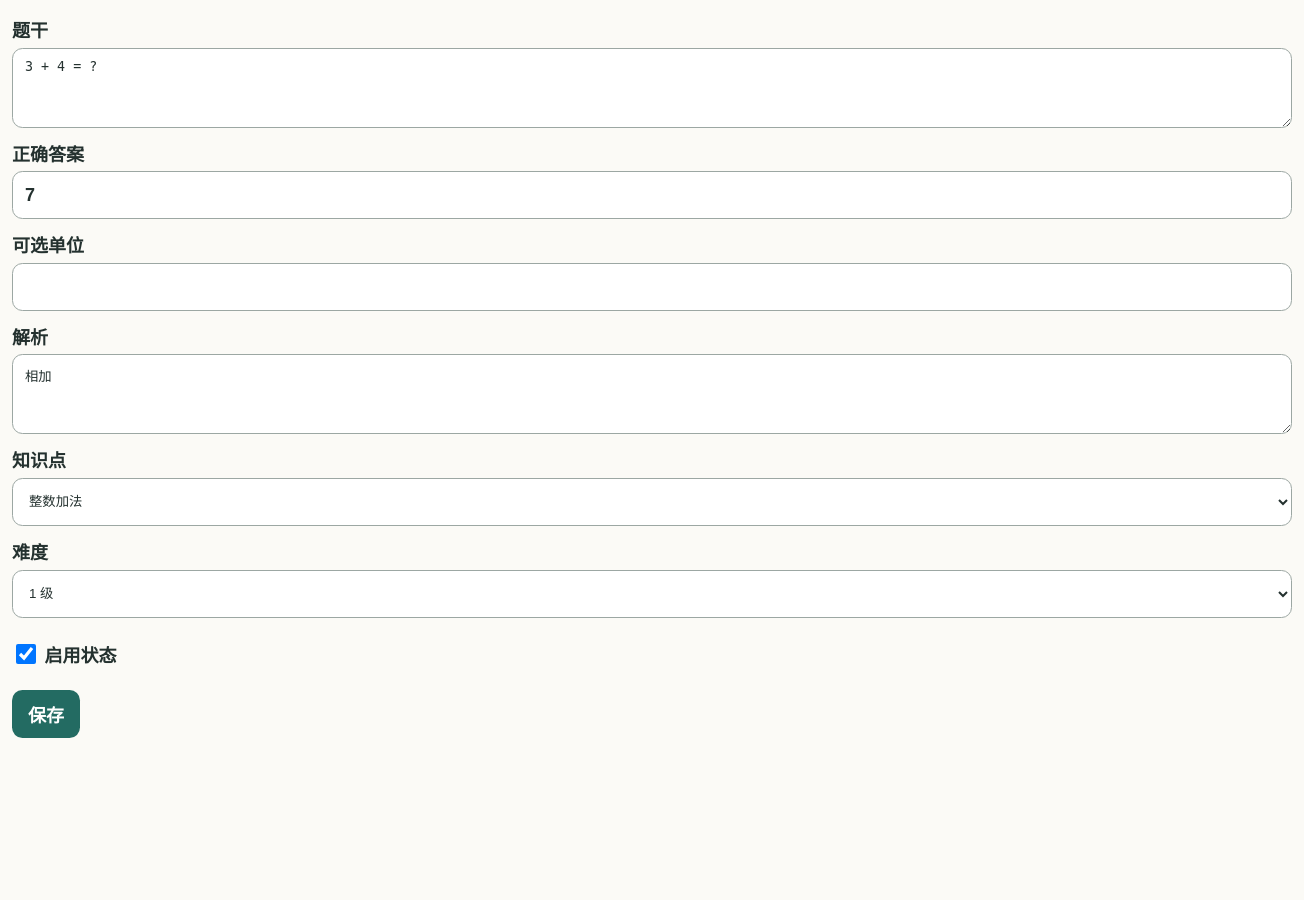
Test: edits friendly fields, saves the complete row payload, and toggles active without delete
Step 1. Replace the text in the text box labelled "题干" with "3 + 5 = ?" → (652, 88), box [12,48,1292,128]
Step 2. Replace the text in the number field labelled "正确答案" with "8" → (652, 195), box [12,171,1292,219]
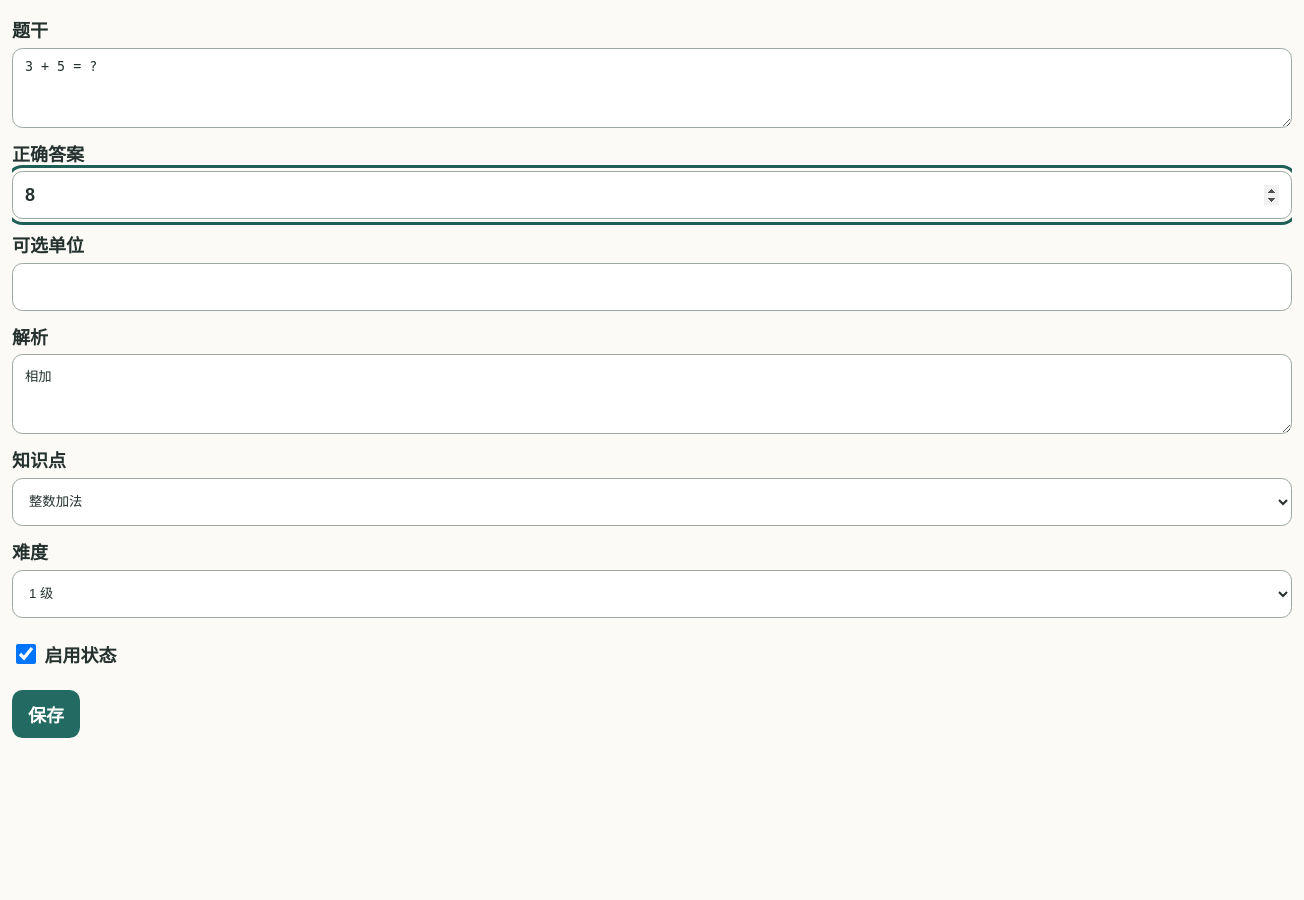
Step 3. Type "个" into the field labelled "可选单位" → (652, 287), box [12,263,1292,311]
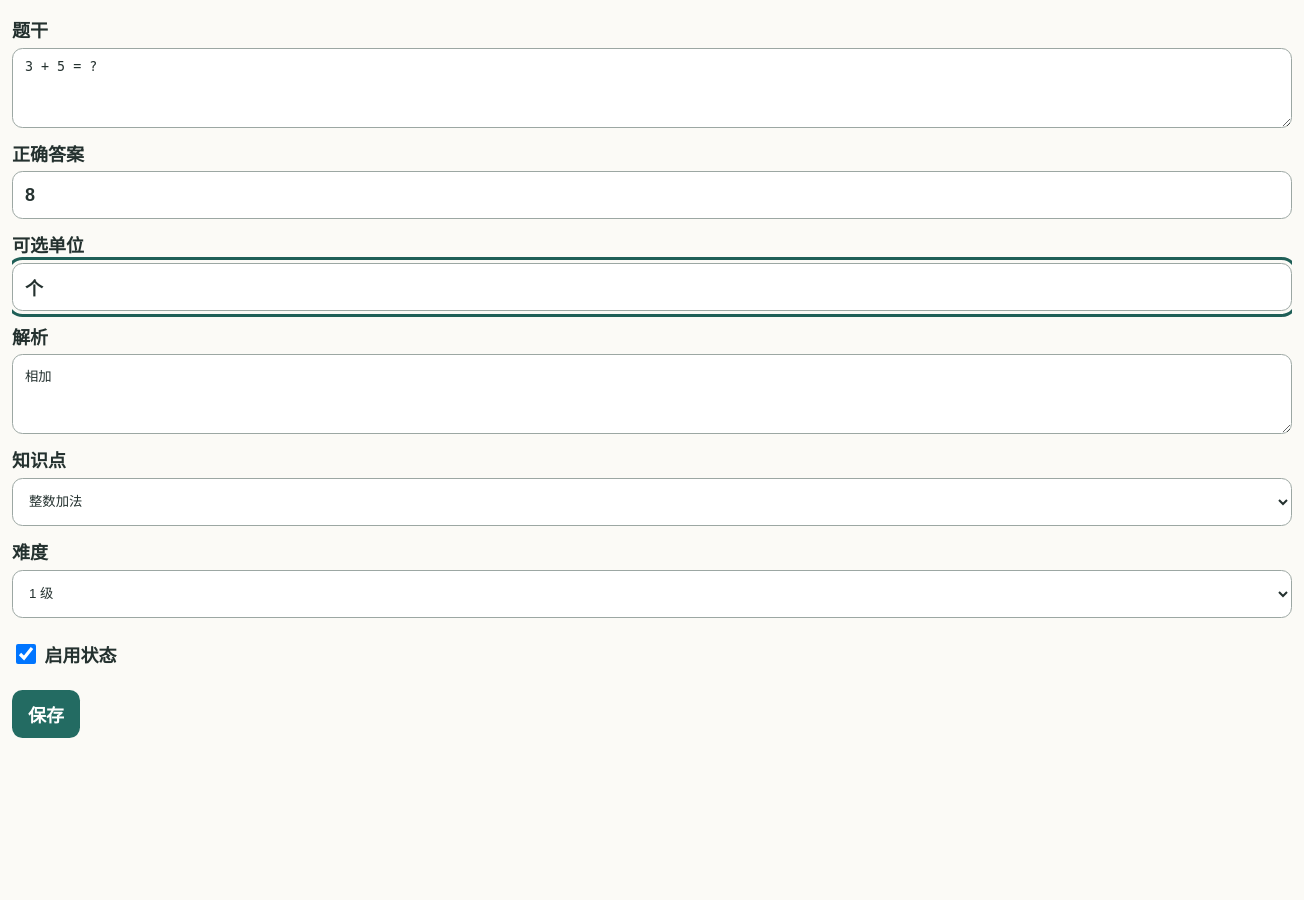
Step 4. Replace the text in the text box labelled "解析" with "先算加法" → (652, 394), box [12,354,1292,434]
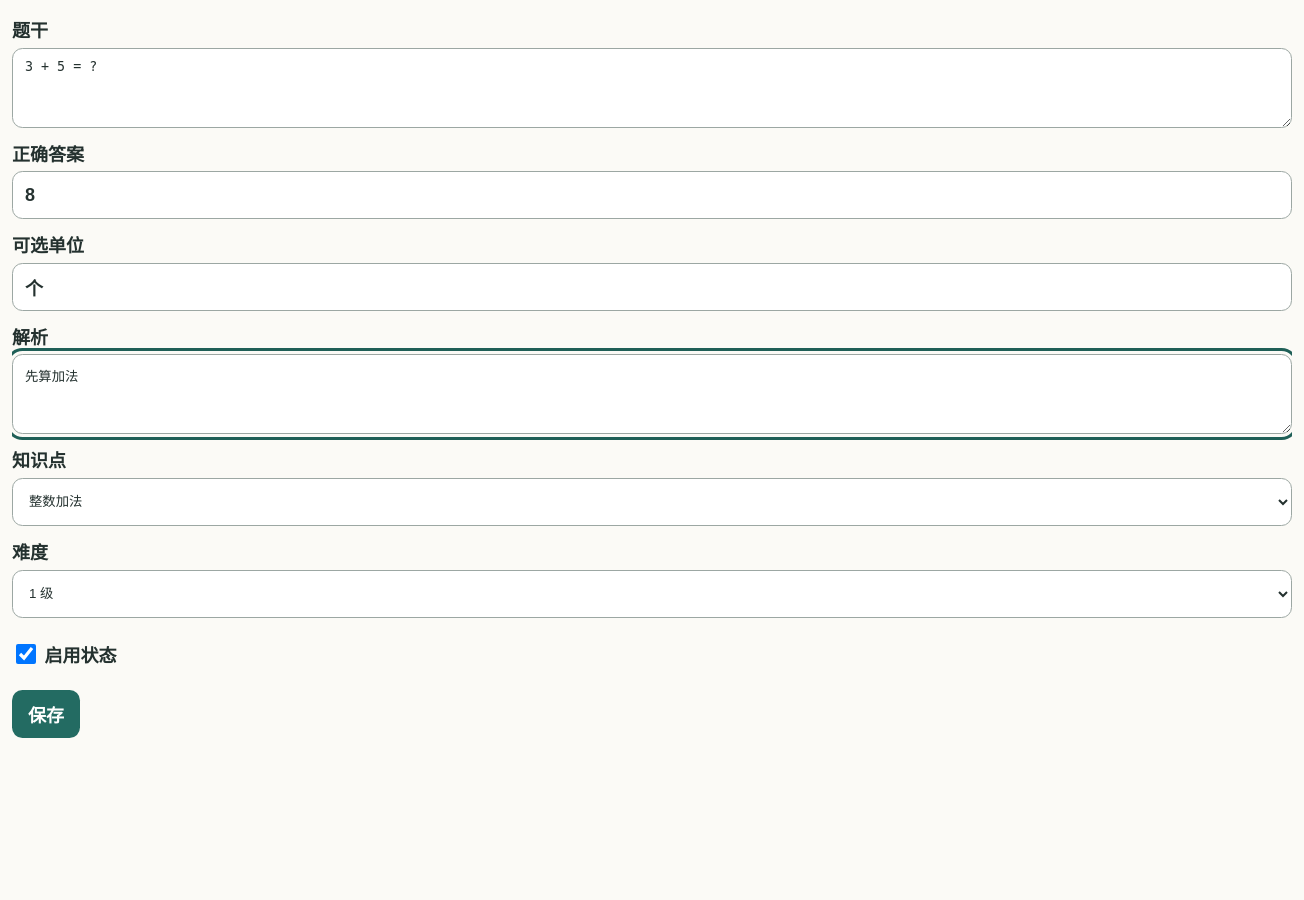
Step 5. Select "3 级" in the dropdown labelled "难度" → (652, 594), box [12,570,1292,618]
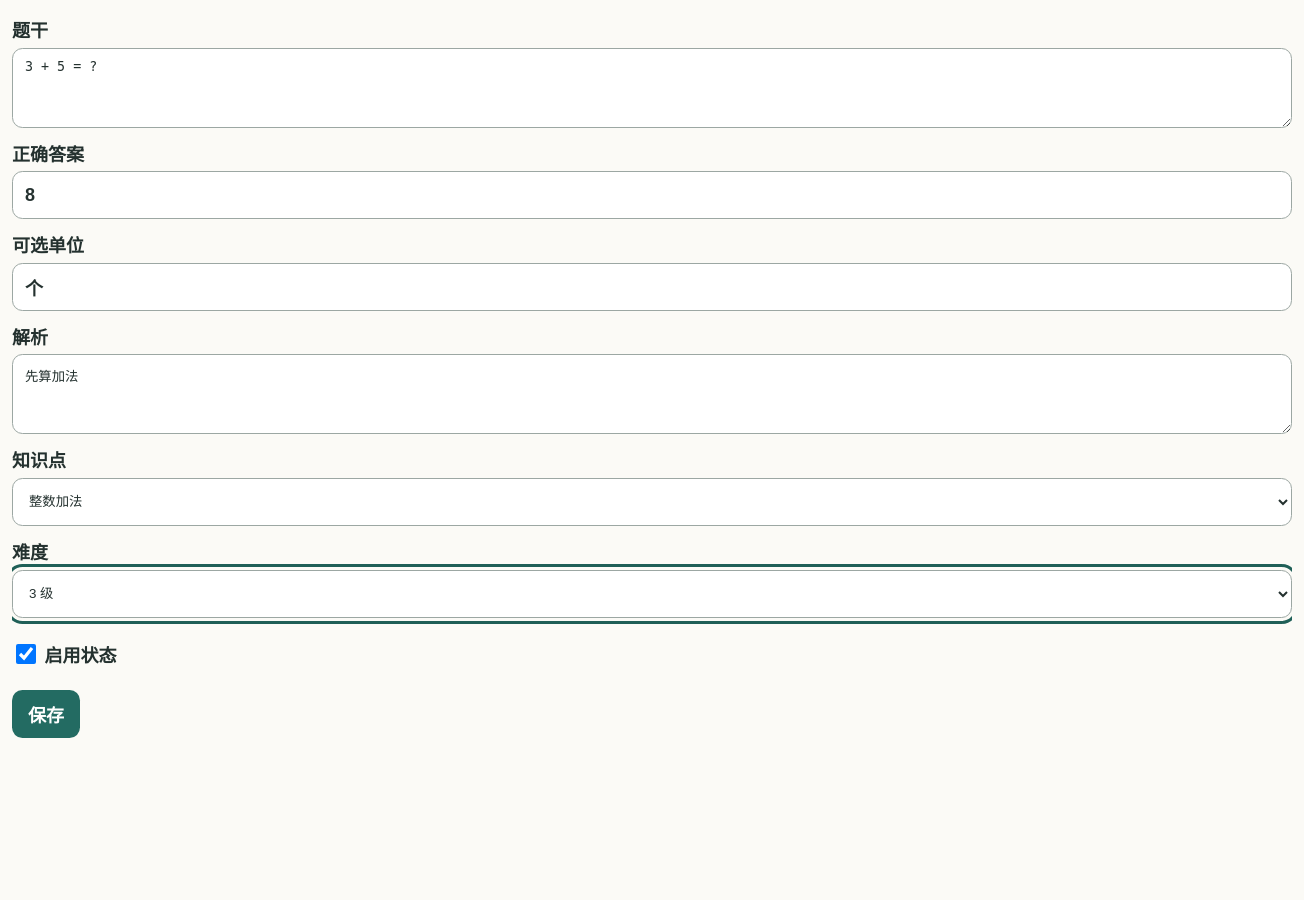
Step 6. Click the checkbox labelled "启用状态" → (26, 654), box [16,644,36,664]
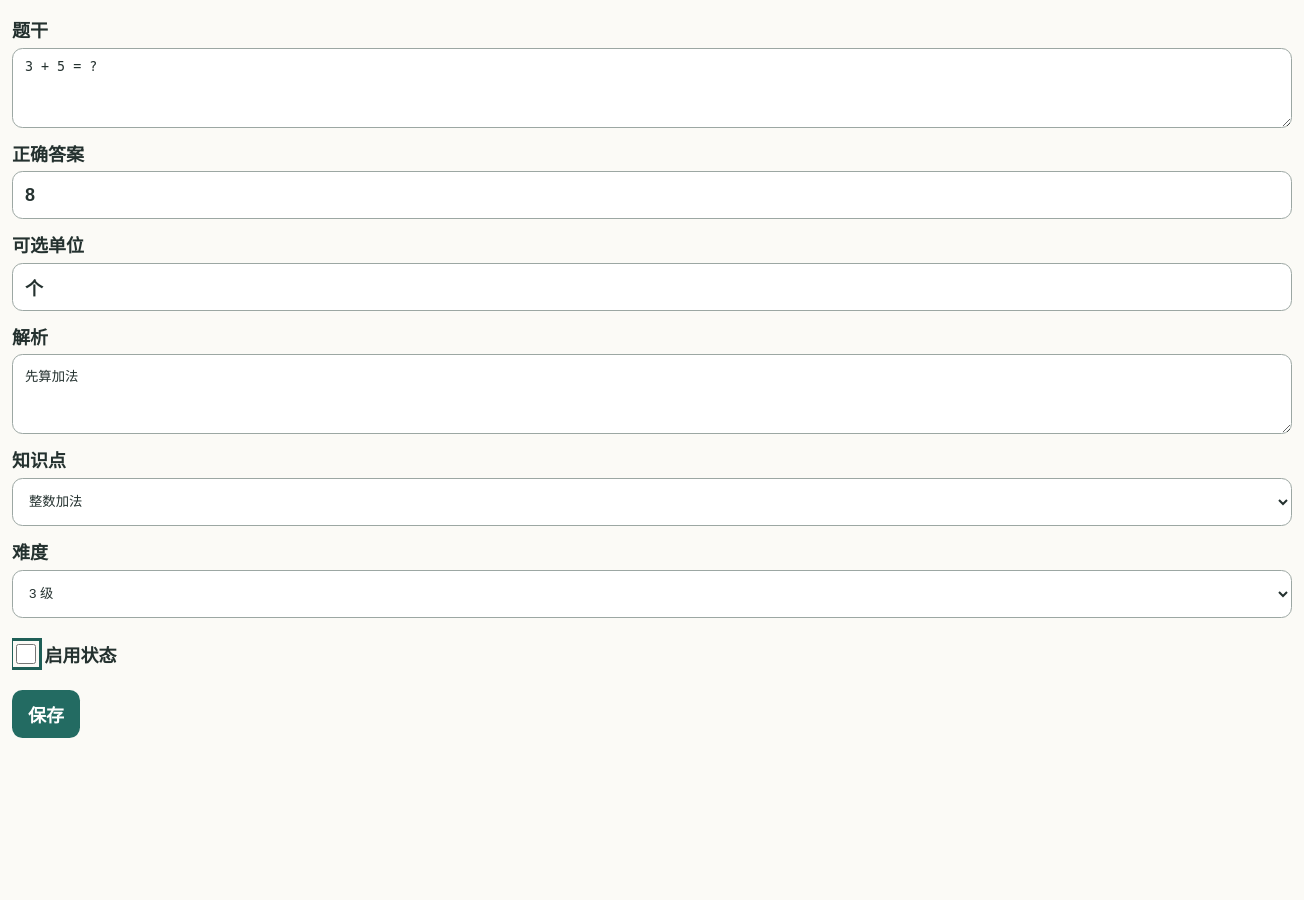
Step 7. Click the button "保存" → (46, 714), box [12,690,80,738]
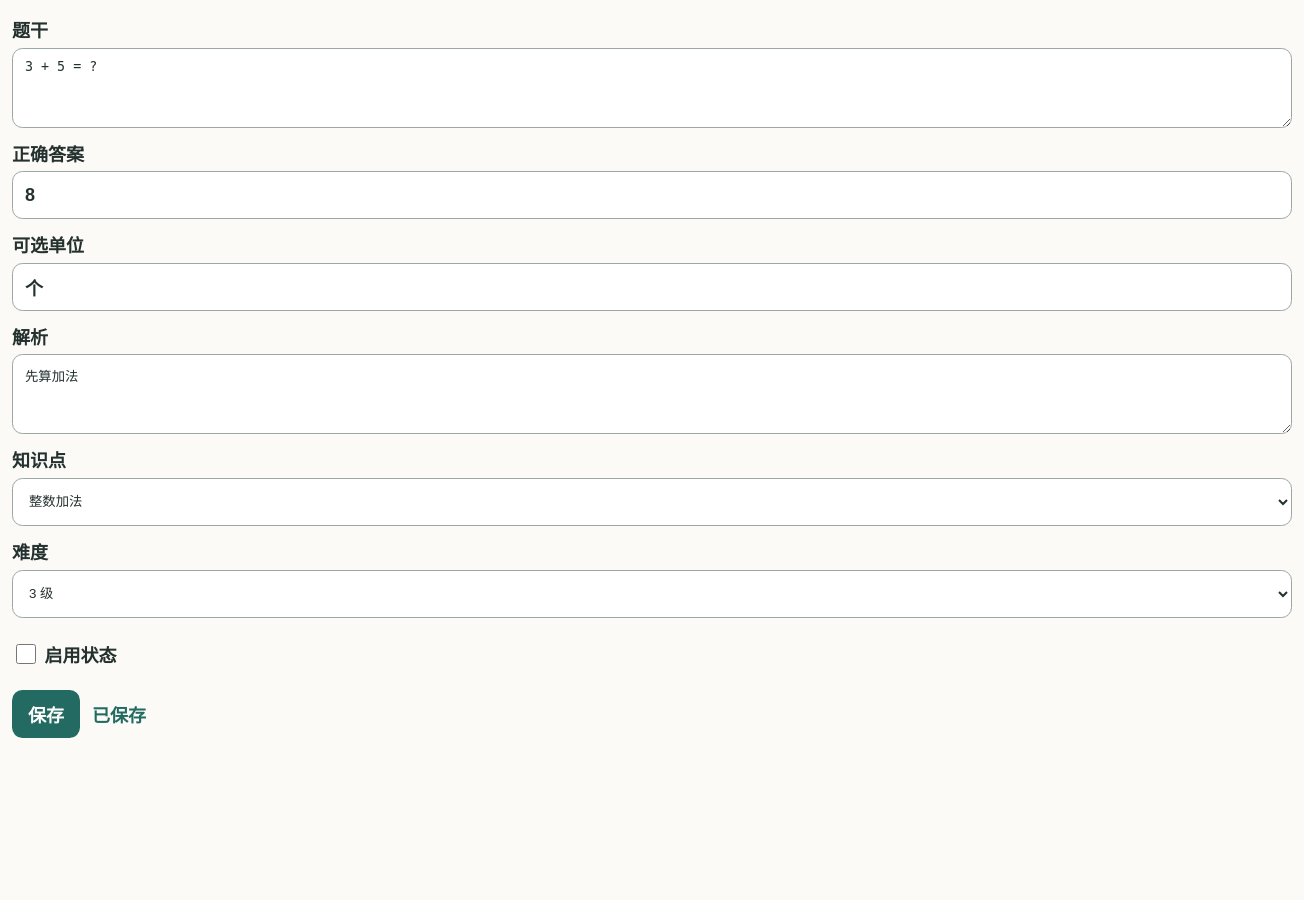
Expected: the text "已保存" is shown, [92,701,146,727]
